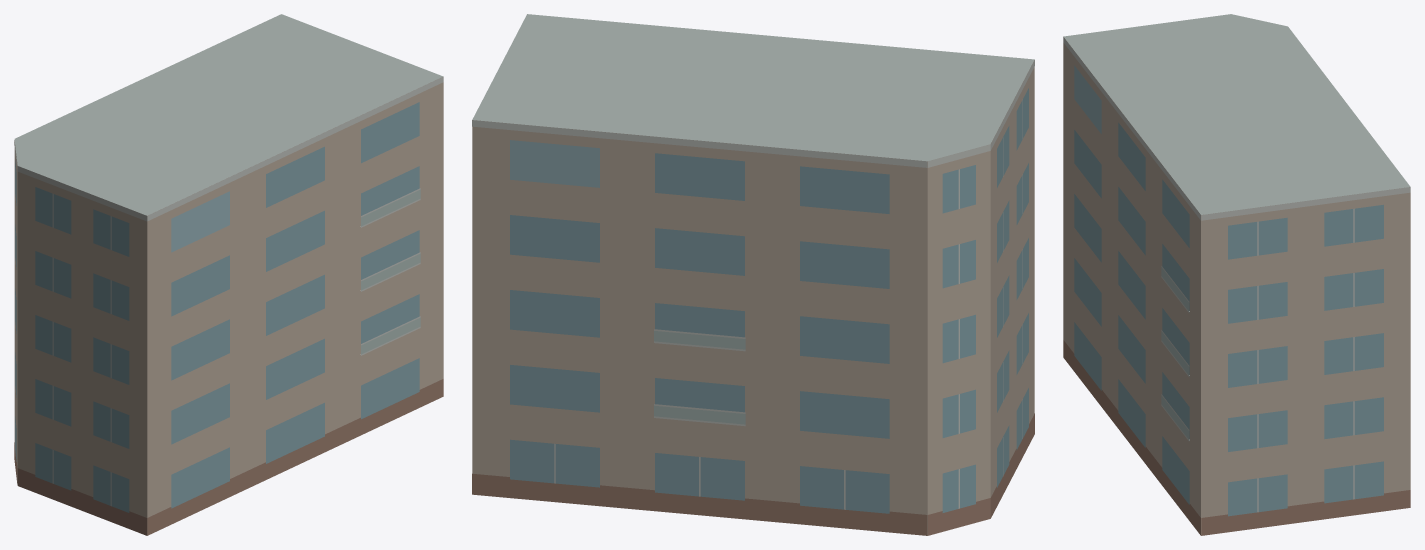
The model's file is survey-upis-33041456.glb.
The picture shows the model from 3 angles, left to right: view 1: azimuth 30°, elevation 25°; view 2: azimuth 150°, elevation 25°; view 3: azimuth 270°, elevation 25°; orthographic projection. The views are drawn at different scales.
Parts seen in each view (by area): view 1: survey-upis-33041456.tmp; view 2: survey-upis-33041456.tmp; view 3: survey-upis-33041456.tmp.
Part boxes in pixels (left/top/right/bottom): survey-upis-33041456.tmp: left=14, top=14, right=443, bottom=535; survey-upis-33041456.tmp: left=472, top=14, right=1034, bottom=535; survey-upis-33041456.tmp: left=1063, top=14, right=1410, bottom=535.
Size of the model in its own units: 18.42 by 13.7 by 13.45.
